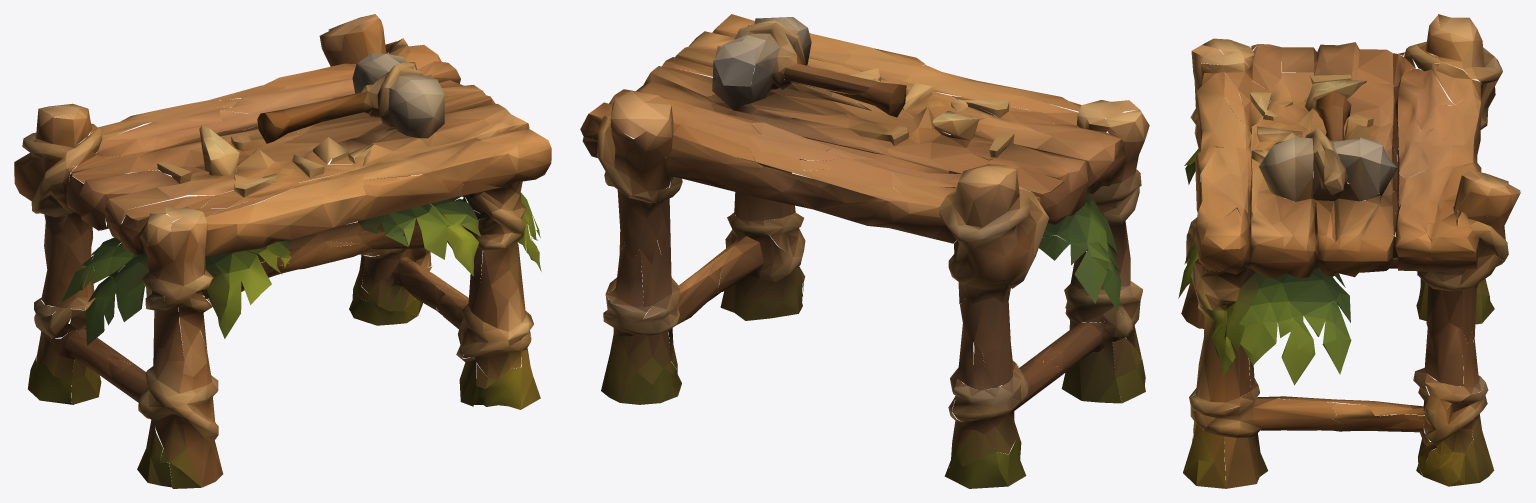
The model's file is building-workbench.glb.
3 views of the same model, side by side, from view 1: azimuth 30°, elevation 25°; view 2: azimuth 150°, elevation 25°; view 3: azimuth 270°, elevation 25° (orthographic). The views are drawn at different scales.
Visible parts, largest first — view 1: 0_workbench; view 2: 0_workbench; view 3: 0_workbench.
Boxes of the visible parts, <box> form: 0_workbench: <box>14,14,551,488</box>; 0_workbench: <box>580,14,1149,488</box>; 0_workbench: <box>1178,14,1520,488</box>.
Bounding box in the file's own units: 1.82 × 1.25 × 1.23.
